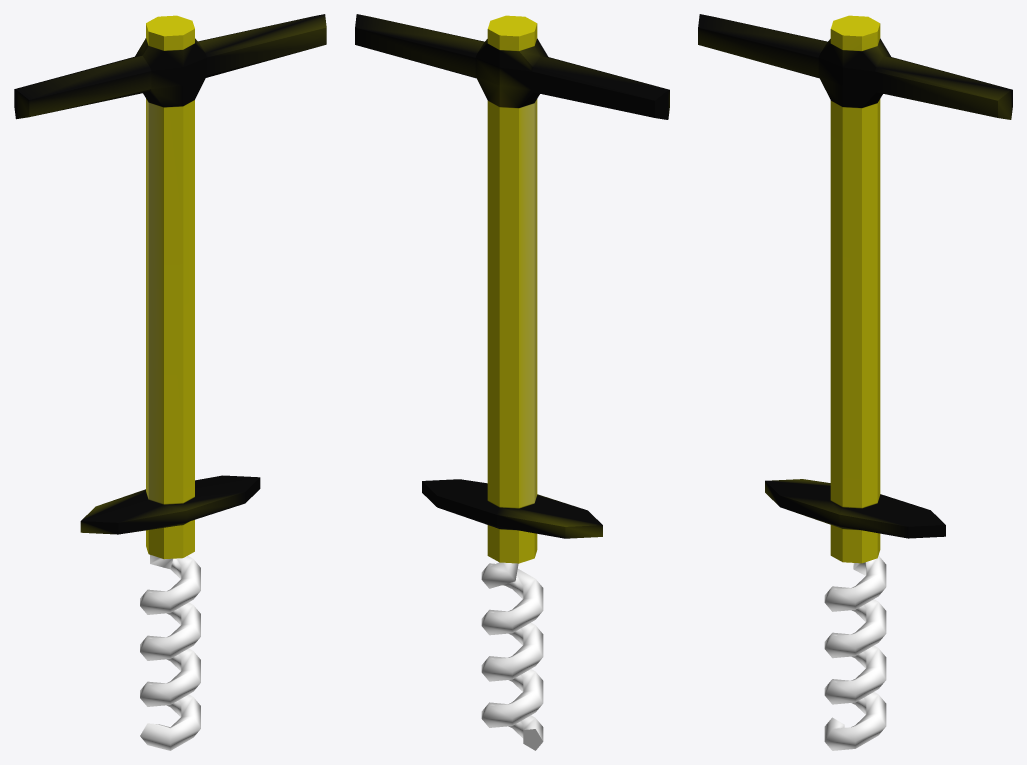
File: animal_company_-_pogostick.glb
3 renders of one model, left to right at view 1: azimuth 30°, elevation 25°; view 2: azimuth 150°, elevation 25°; view 3: azimuth 330°, elevation 25°, orthographic.
Visible parts, largest first — view 1: Base_4, Spring_5; view 2: Base_4, Spring_5; view 3: Base_4, Spring_5.
Boxes of the visible parts, <box> form: Base_4: <box>14,14,326,559</box>; Spring_5: <box>140,555,200,750</box>; Base_4: <box>355,14,669,563</box>; Spring_5: <box>481,562,543,750</box>; Base_4: <box>698,14,1012,563</box>; Spring_5: <box>824,555,886,750</box>.
Size of the model in its own units: 0.2814 by 0.6206 by 0.05.
